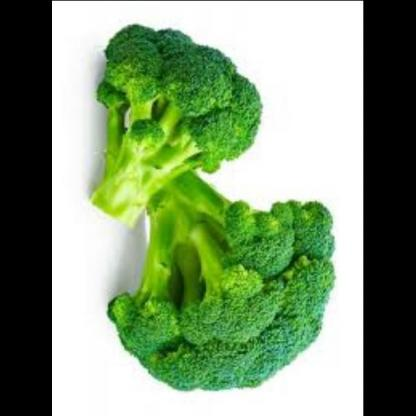broccoli: (106, 143, 344, 396), (74, 22, 297, 212)
